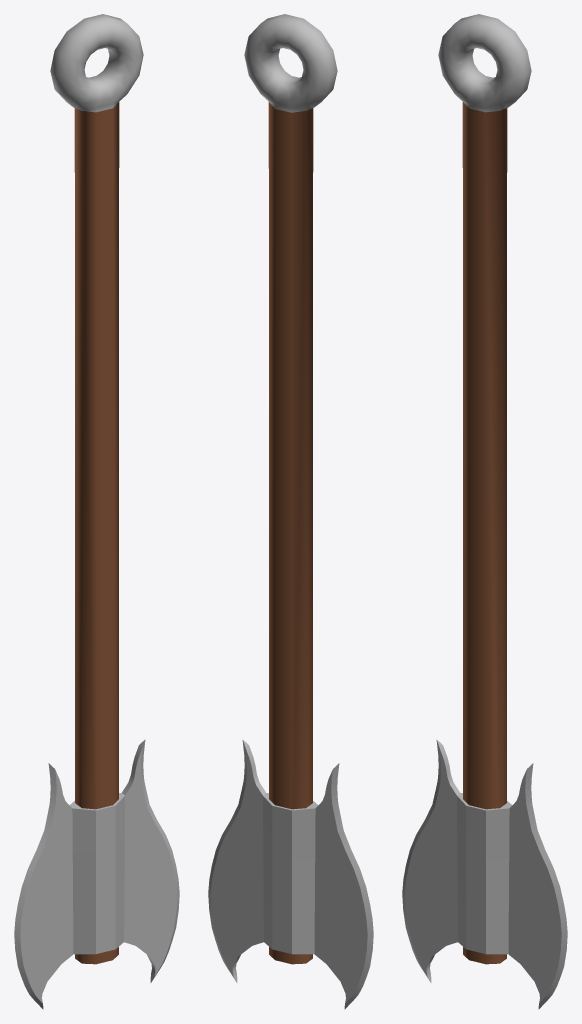
The model's file is SwingingAxe.fbx.
3 renders of one model, left to right at view 1: azimuth 30°, elevation 25°; view 2: azimuth 150°, elevation 25°; view 3: azimuth 330°, elevation 25°, orthographic.
Visible parts, largest first — view 1: SwingingAxe; view 2: SwingingAxe; view 3: SwingingAxe.
Boxes of the visible parts, left/top/right/bottom form: SwingingAxe: left=14, top=14, right=179, bottom=1009; SwingingAxe: left=208, top=14, right=373, bottom=1009; SwingingAxe: left=402, top=14, right=567, bottom=1009.
Size of the model in its own units: 89.92 by 508 by 16.63.
